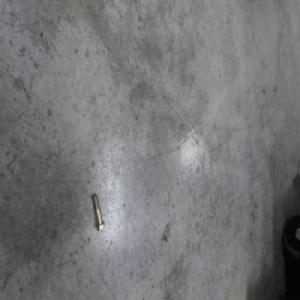Bolt: (91, 192, 105, 233)
